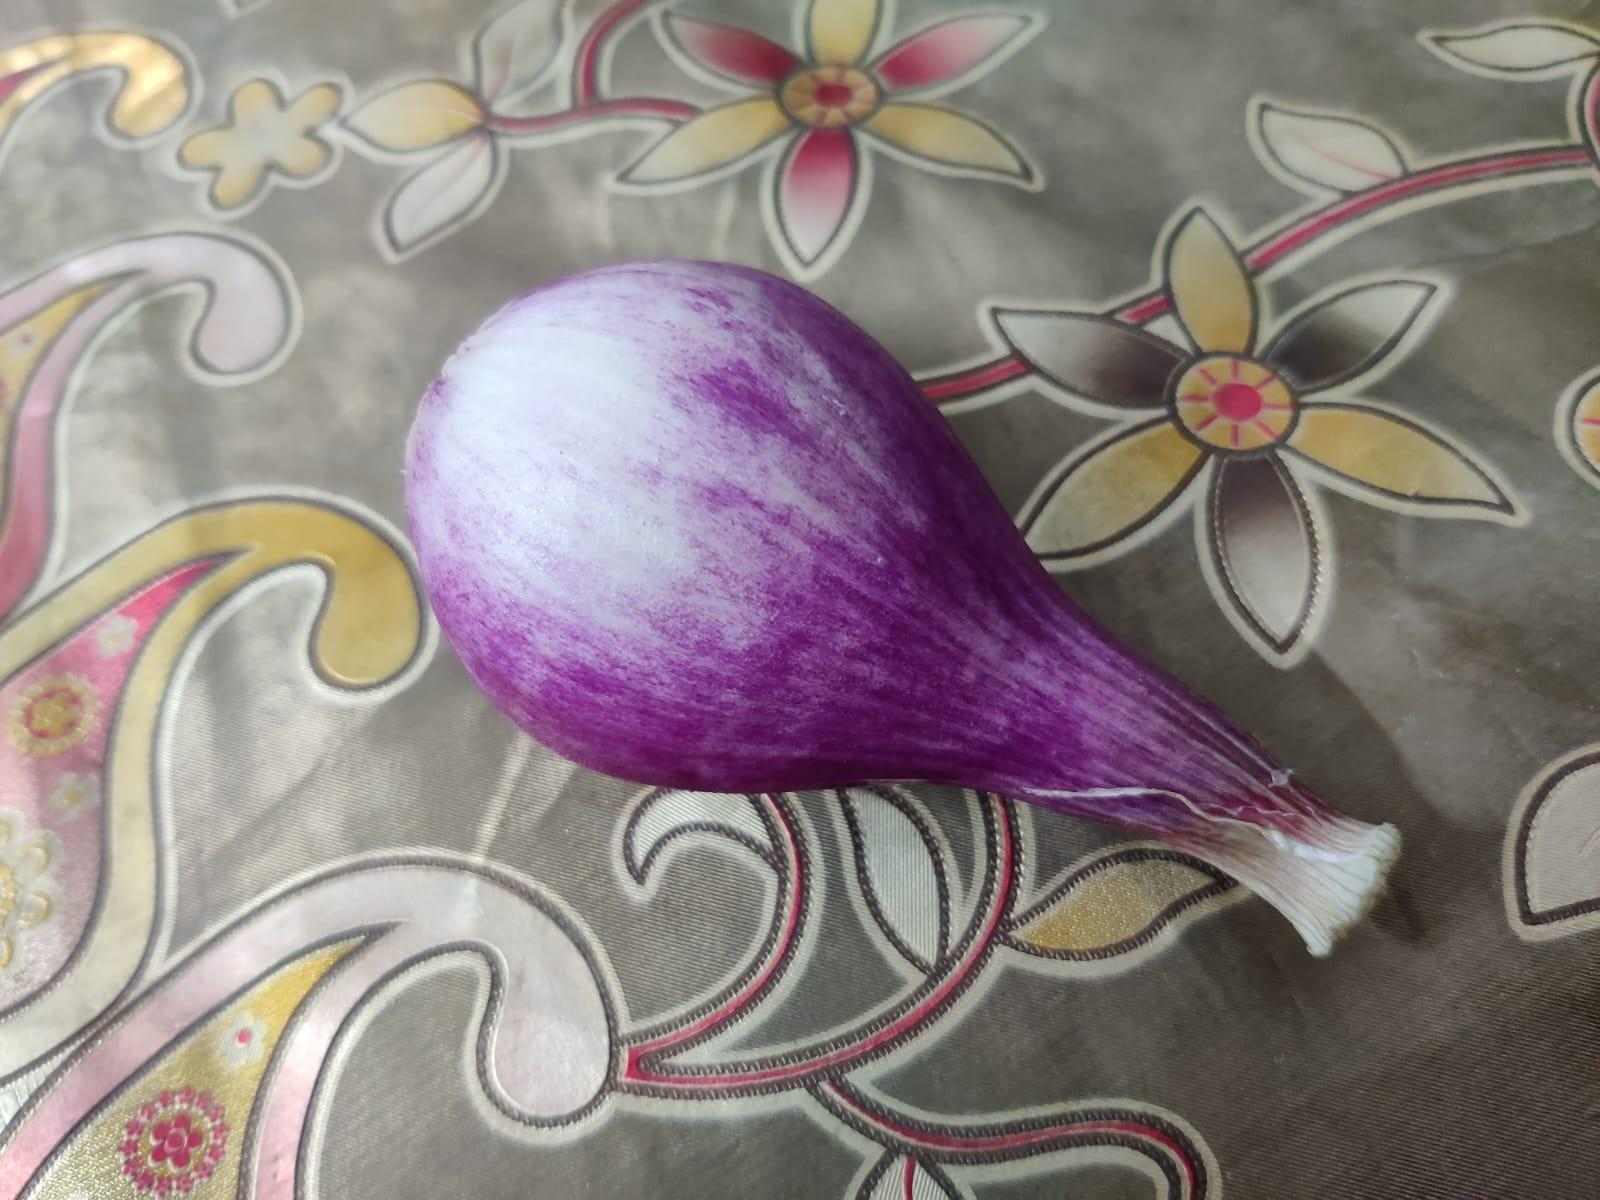non-mango: (399, 231, 1397, 968)
